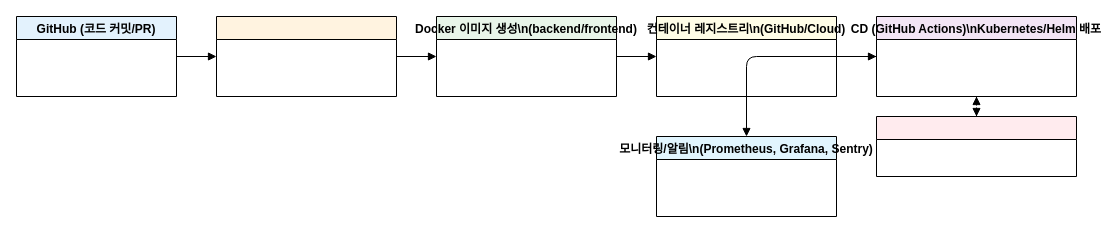
Image size: 1118x233. Some labels were removed from this diagram. The box of each missing label's shape, as (x1, y1, x2, y2) in pixels:
CI (GitHub Actions)\n빌드/테스트: (216, 16, 396, 96)
승인/수동 배포 (옵션): (876, 116, 1076, 176)
